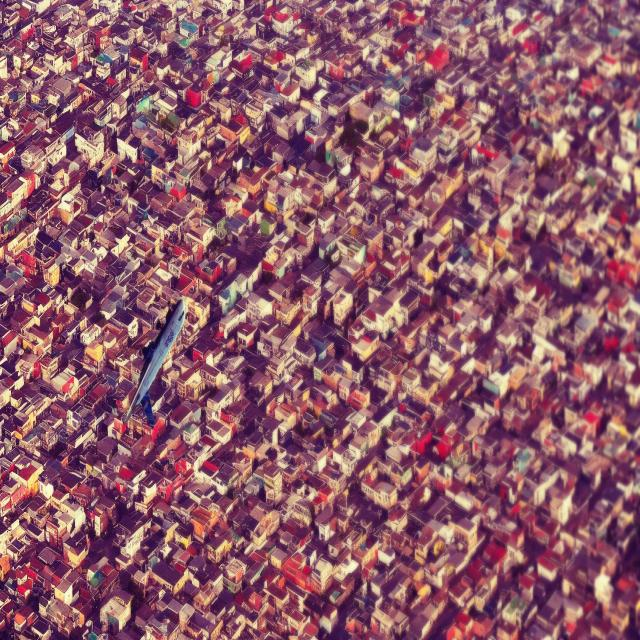airplane: (121, 297, 185, 427)
